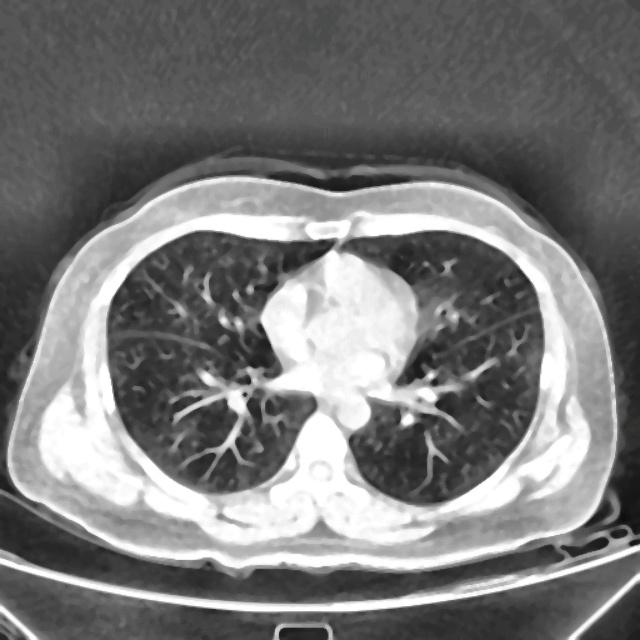covid: (5, 154, 620, 578)
